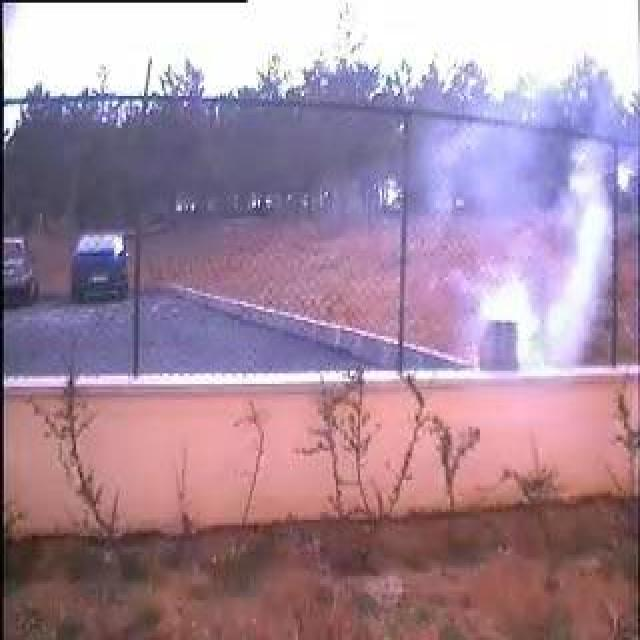Smoke: (417, 136, 605, 365)
